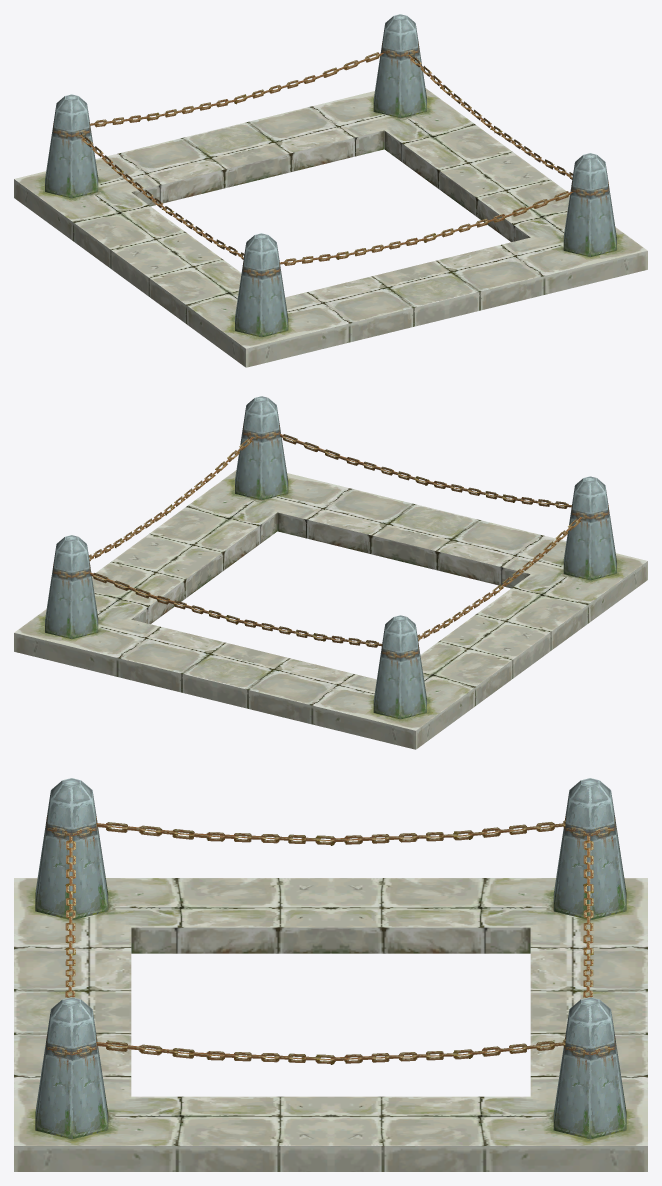
3 views of the same model, one above another, from view 1: azimuth 30°, elevation 25°; view 2: azimuth 150°, elevation 25°; view 3: azimuth 270°, elevation 25° (orthographic). The views are drawn at different scales.
Visible parts, largest first — view 1: geom_node_0; view 2: geom_node_0; view 3: geom_node_0.
Boxes of the visible parts, x1,y1,x2,y2 form: geom_node_0: [14, 14, 647, 367]; geom_node_0: [14, 396, 647, 749]; geom_node_0: [14, 778, 647, 1171].
Bounding box in the file's own units: 6 × 1.52 × 6.
1 material, 1 textured.
